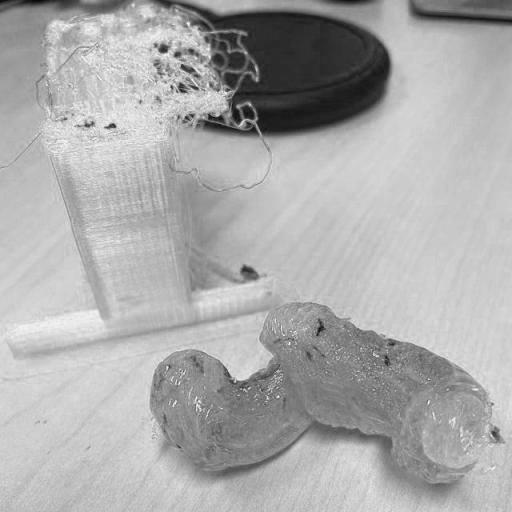spaghetti_and_stringing: (32, 1, 266, 141), (164, 136, 276, 198)
